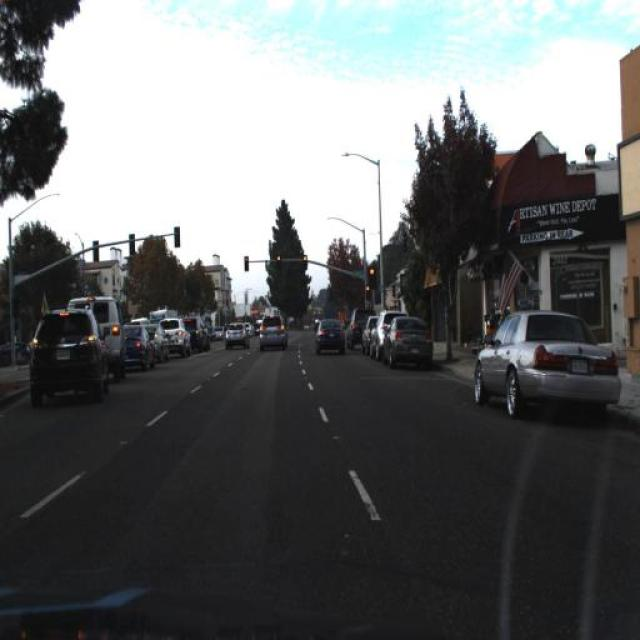car: (470, 296, 626, 432), (28, 302, 108, 414), (64, 291, 131, 385), (381, 313, 438, 372), (384, 315, 434, 365), (342, 297, 378, 353), (121, 316, 153, 373), (155, 312, 191, 362), (374, 312, 404, 358), (314, 314, 346, 357), (182, 312, 212, 356), (256, 312, 286, 353), (348, 308, 372, 354), (162, 320, 188, 360), (223, 317, 248, 355), (184, 316, 208, 353), (147, 323, 168, 361), (364, 315, 380, 357), (226, 324, 248, 350)
trafficLight-RedLeft: (368, 266, 378, 290), (242, 257, 248, 272)
